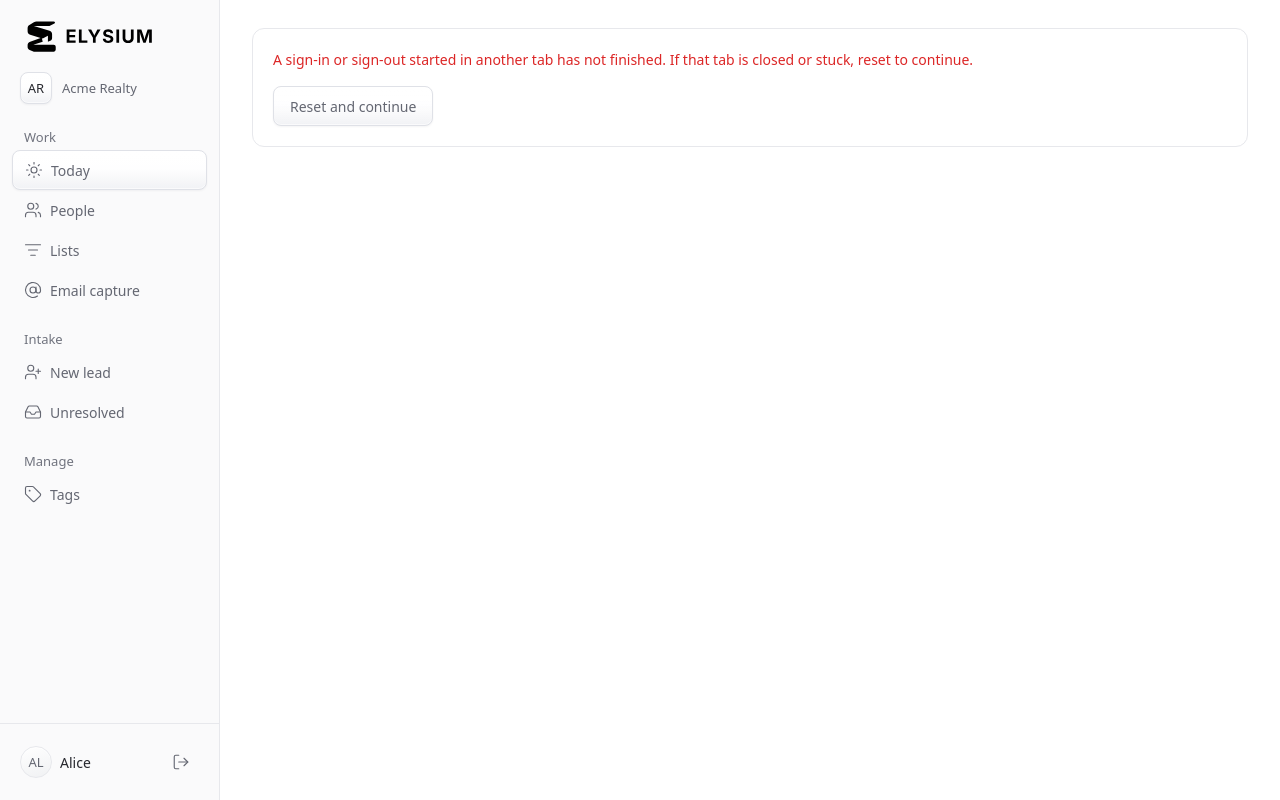
Test: AppShell session recovery copy (SLICE_011c §6, F1/F3) › renders the F1 recovery copy and control only when blocked by an outstanding attempt, and recovers after Reset and continue
The width and height of the screenshot is (1280, 800).
Click the button with test id "session-reset".
click(353, 106)  # box [273, 86, 433, 126]
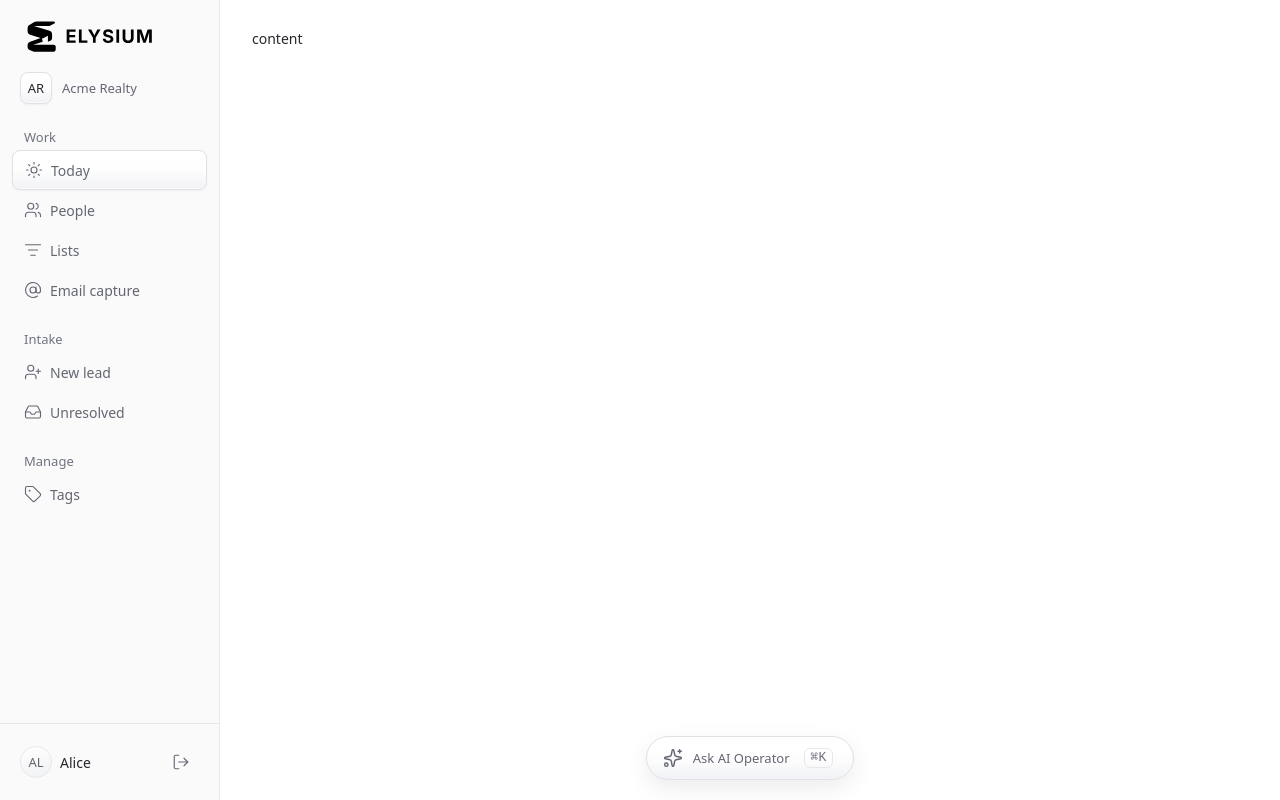
Now the text "has not finished" is gone
